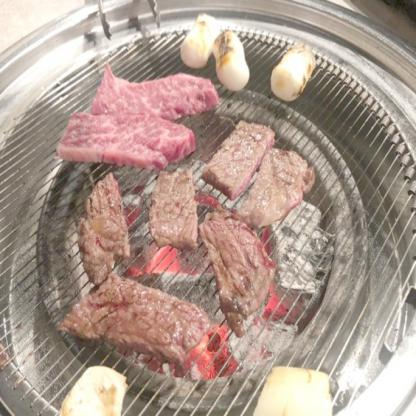Carne: (54, 279, 211, 357), (194, 203, 275, 331), (244, 148, 315, 232), (203, 117, 278, 196), (81, 172, 132, 278), (148, 163, 200, 253)
